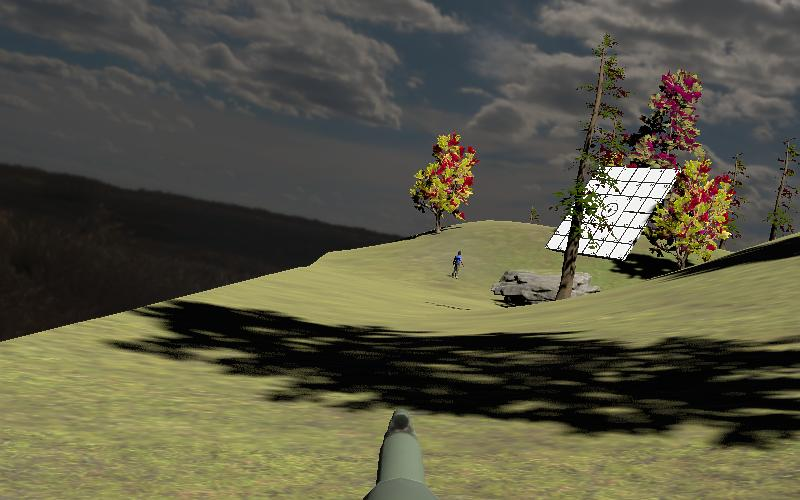Human: (448, 248, 465, 280)
